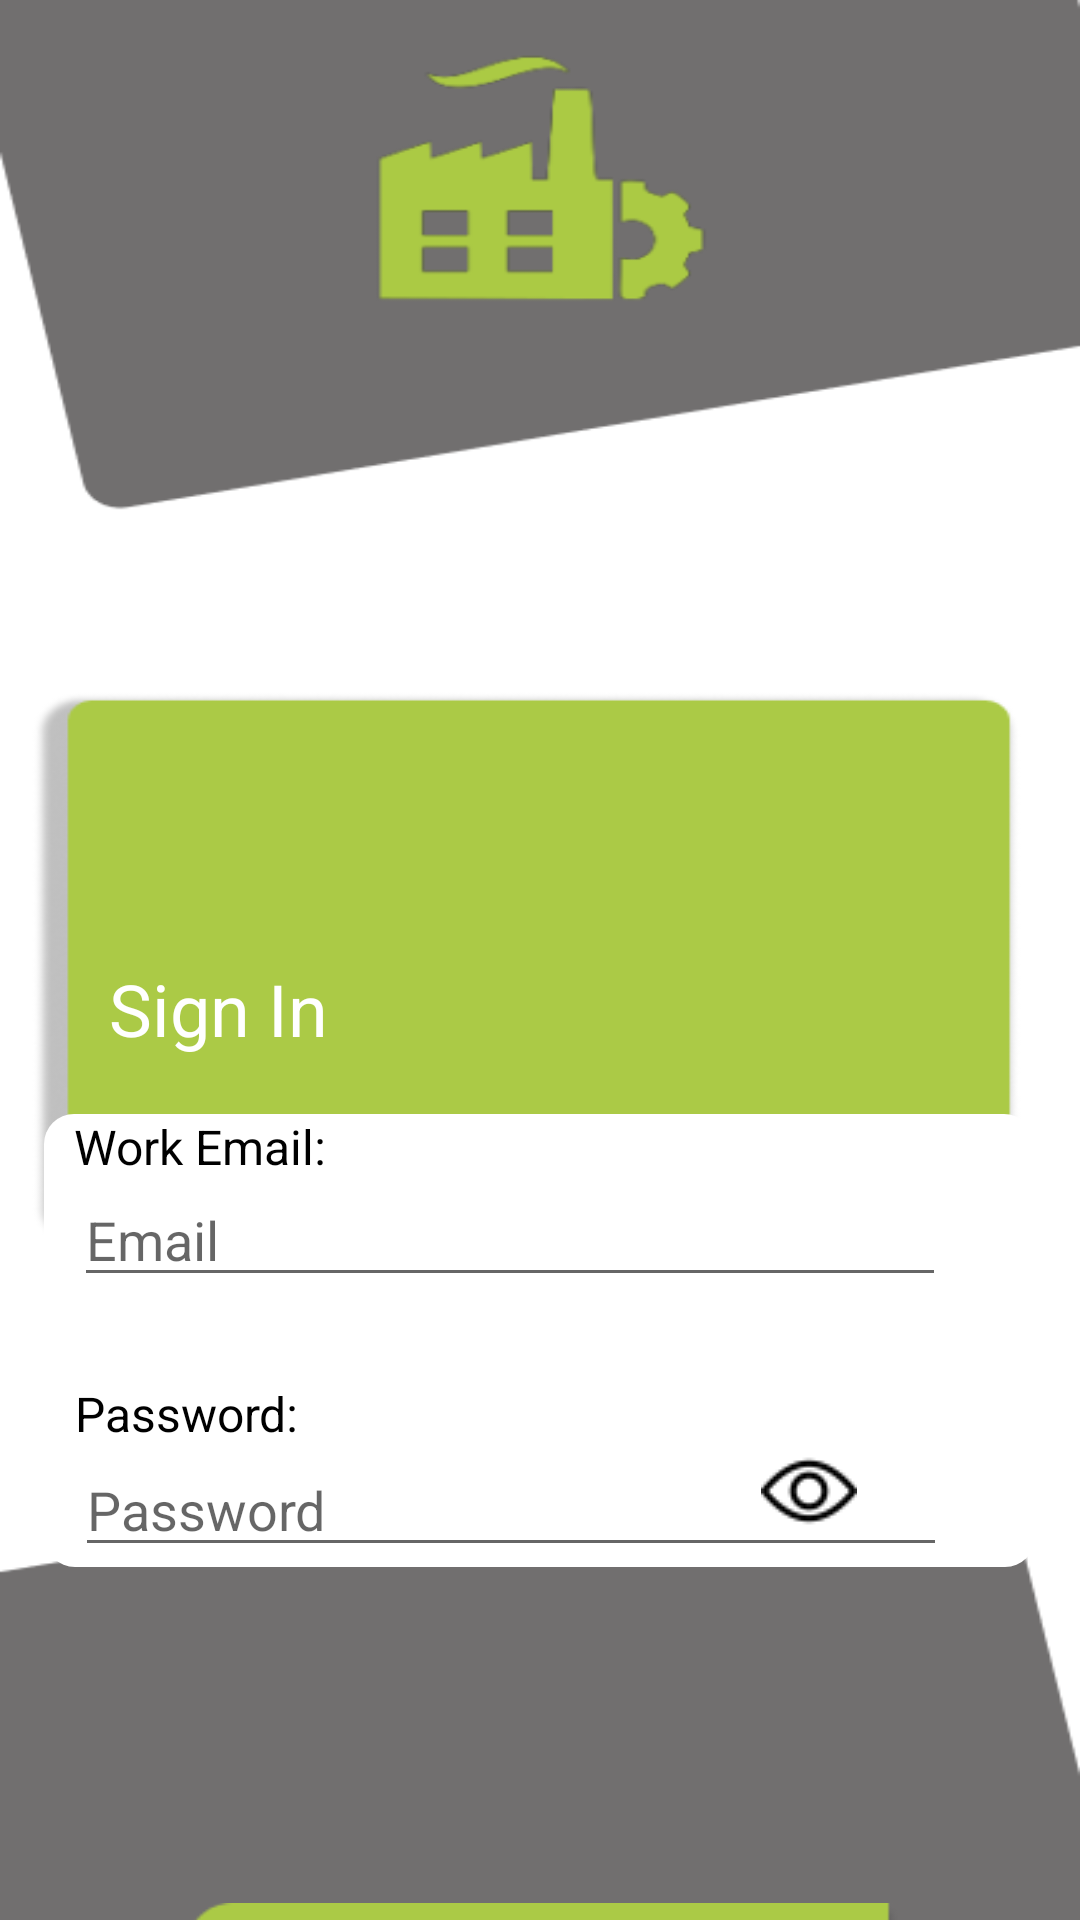

Icons on this 1080 × 1920 Android screen, each with the point to tap as [x,y]:
view: [809,1491]
